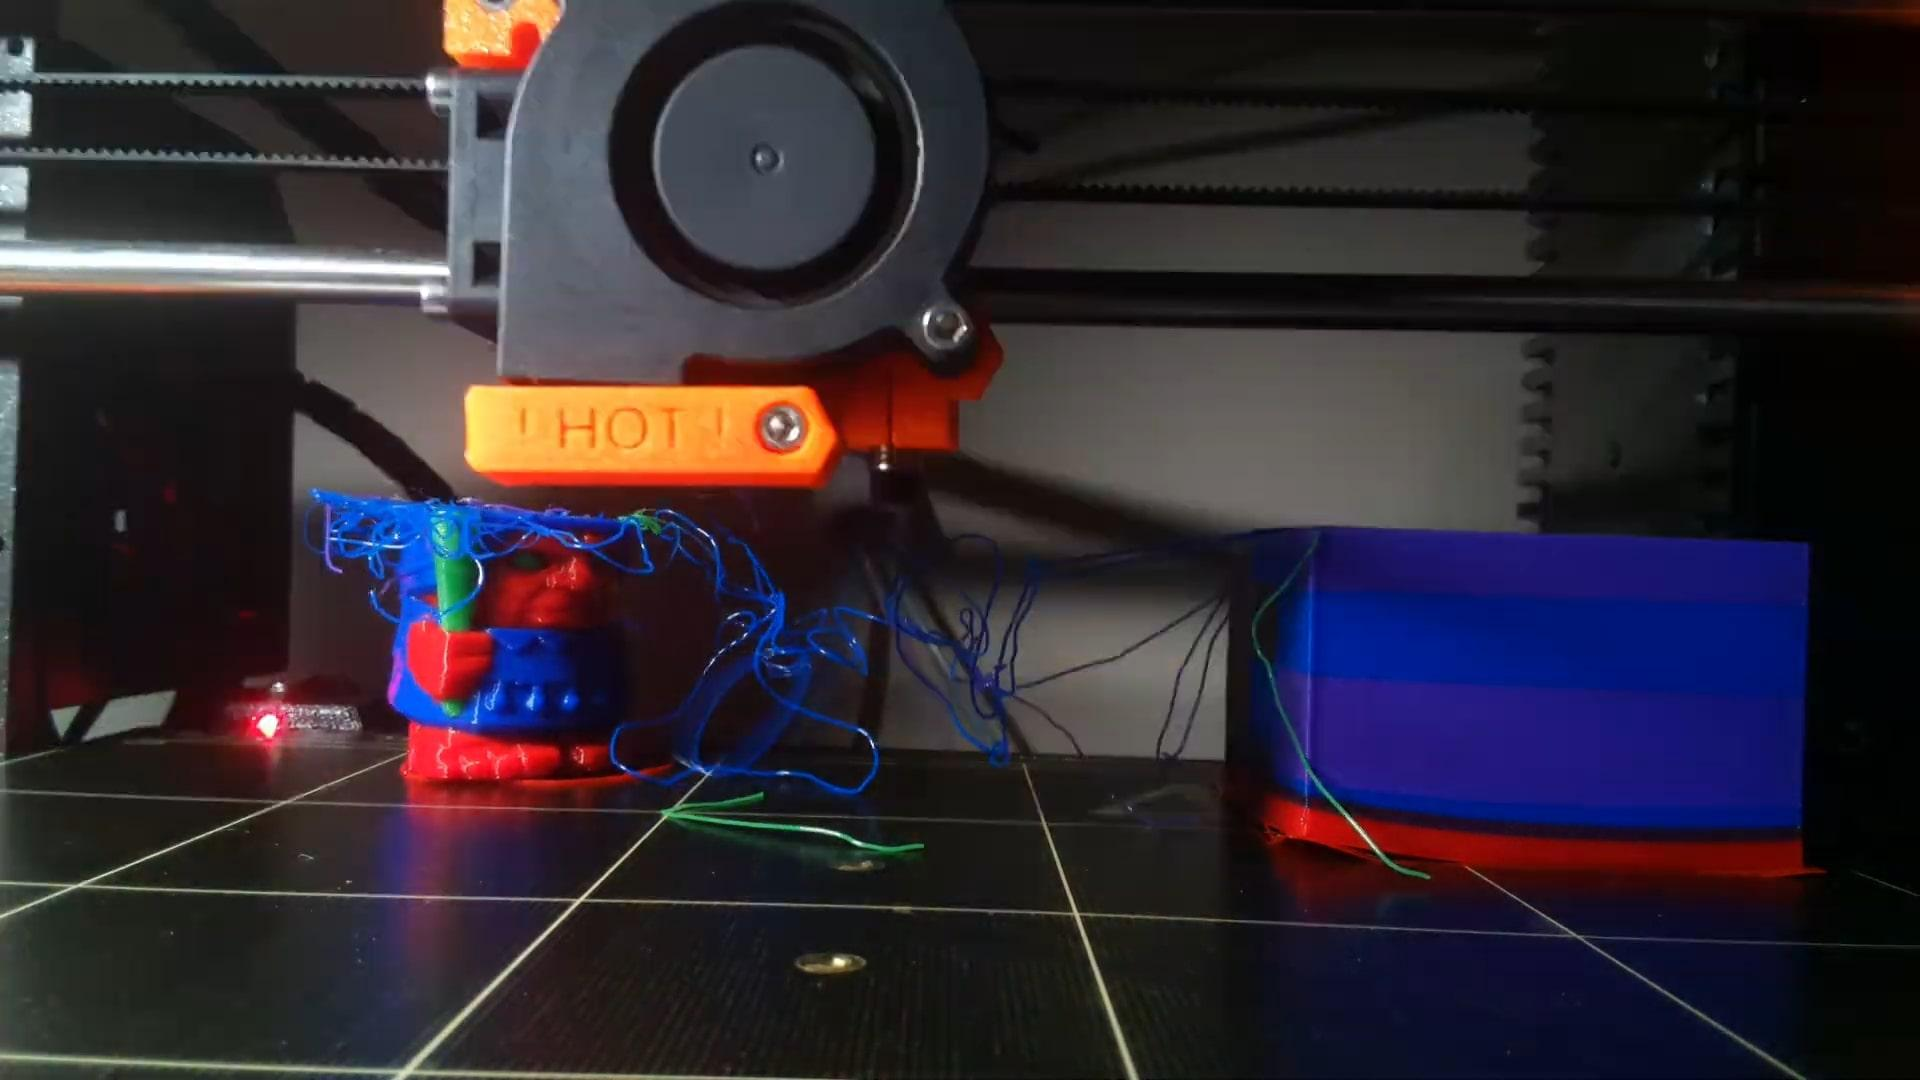Printing-Artifact: (609, 493, 1237, 803), (289, 469, 618, 603)
